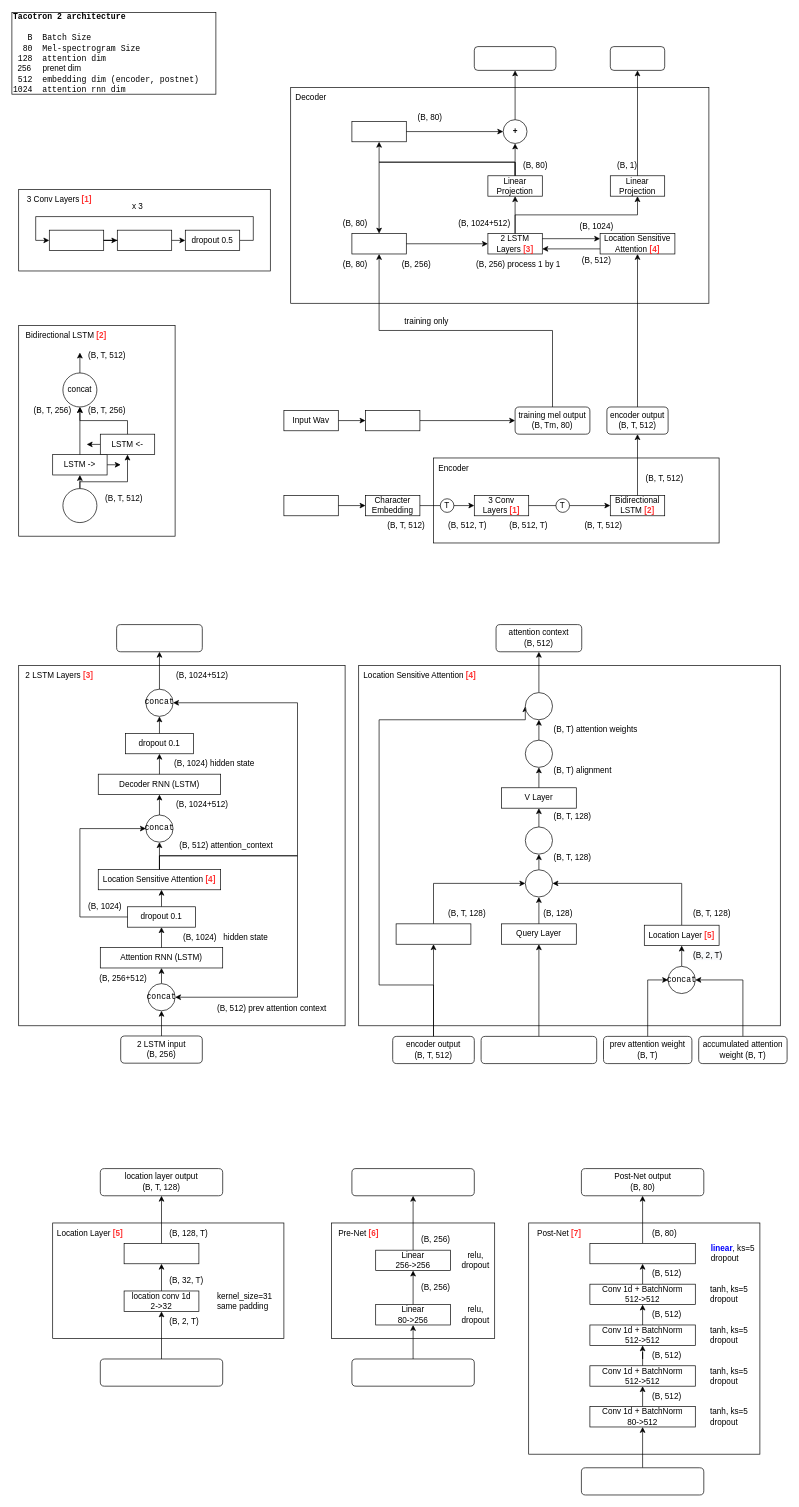
This 799x1507 diagram has some shape labels left out. The box of each missing label's shape, as (x1, y1, x2, y2) in pixels:
1st LSTM hidden state (B, 1024): (480, 1036, 597, 1064)
2 Layer Pre-Net [6]: (351, 233, 406, 254)
2 LSTM output (B, 1024+512): (116, 624, 202, 652)
5 conv Post-Net [7]: (351, 121, 406, 142)
add: (525, 869, 552, 897)
Conv 1d + BatchNorm 512->80: (589, 1243, 695, 1264)
conv output: (62, 488, 97, 523)
conv1d 512->512: (49, 230, 104, 251)
Input Text: (283, 495, 338, 516)
location dense 32->128: (123, 1243, 199, 1264)
location layer input (B, 2, 512) prev w+accum w: (100, 1358, 223, 1386)
mat mul: (525, 692, 552, 720)
mel spectrogram: (474, 46, 556, 70)
Mel-Spectrogram: (365, 410, 420, 431)
Memory Layer: (395, 923, 471, 944)
Post-Net input (B, 80): (581, 1467, 704, 1495)
Pre-Net input (B, 80): (351, 1358, 474, 1386)
Pre-Net output (B, 256): (351, 1168, 474, 1196)
relu: (117, 230, 172, 251)
soft max: (525, 740, 552, 767)
Stop Token: (610, 46, 665, 70)
tanh: (525, 826, 552, 854)
